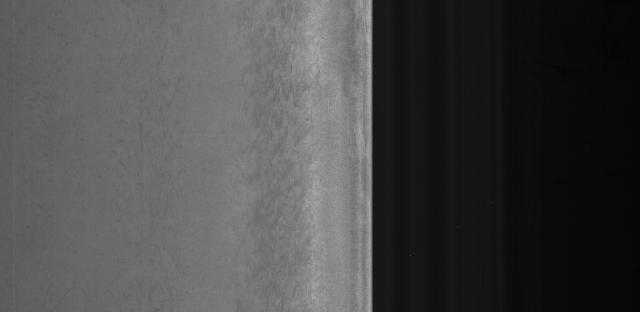silk_spot: (232, 31, 320, 228)
